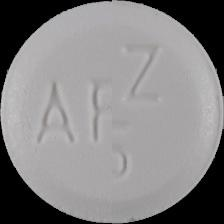60505-3723: (0, 0, 224, 224)
